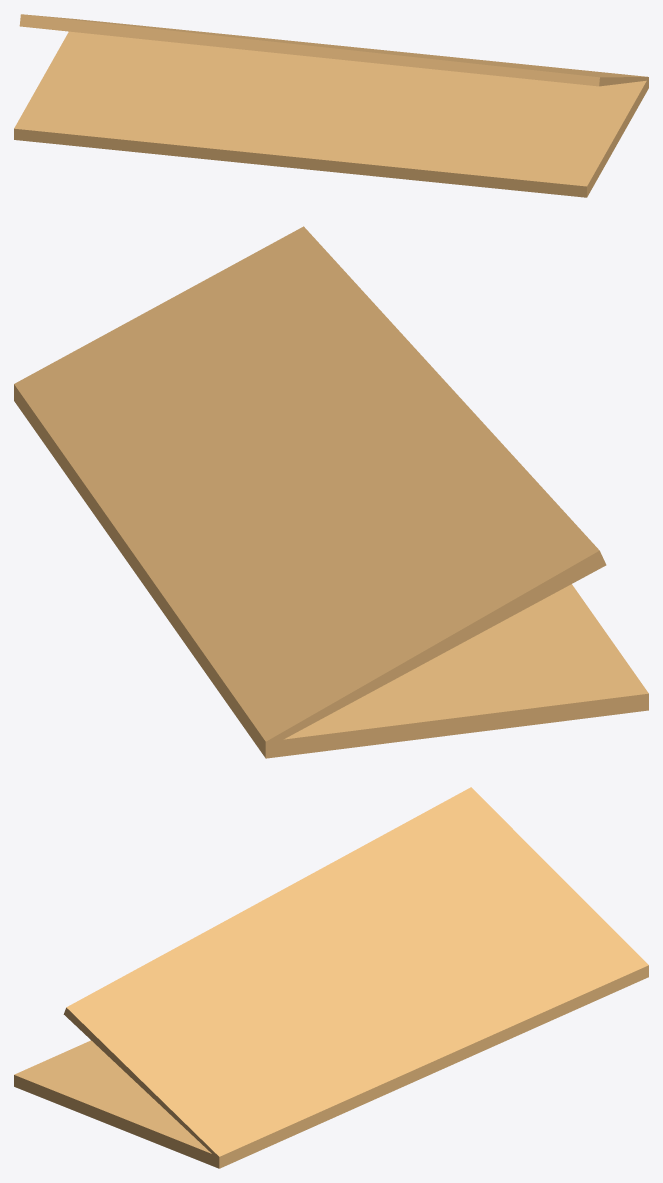
File: Kartotan.fbx
The picture shows the model from 3 angles, top to bottom: view 1: azimuth 30°, elevation 25°; view 2: azimuth 150°, elevation 25°; view 3: azimuth 270°, elevation 25°; orthographic projection. The views are drawn at different scales.
Parts seen in each view (by area): view 1: Kraft; view 2: Kraft; view 3: Kraft.
Boxes of the visible parts, x1,y1,x2,y2 form: Kraft: [14, 14, 648, 197]; Kraft: [14, 226, 648, 758]; Kraft: [14, 787, 648, 1168].
Bounding box in the file's own units: 3.91 × 0.7862 × 3.83.
